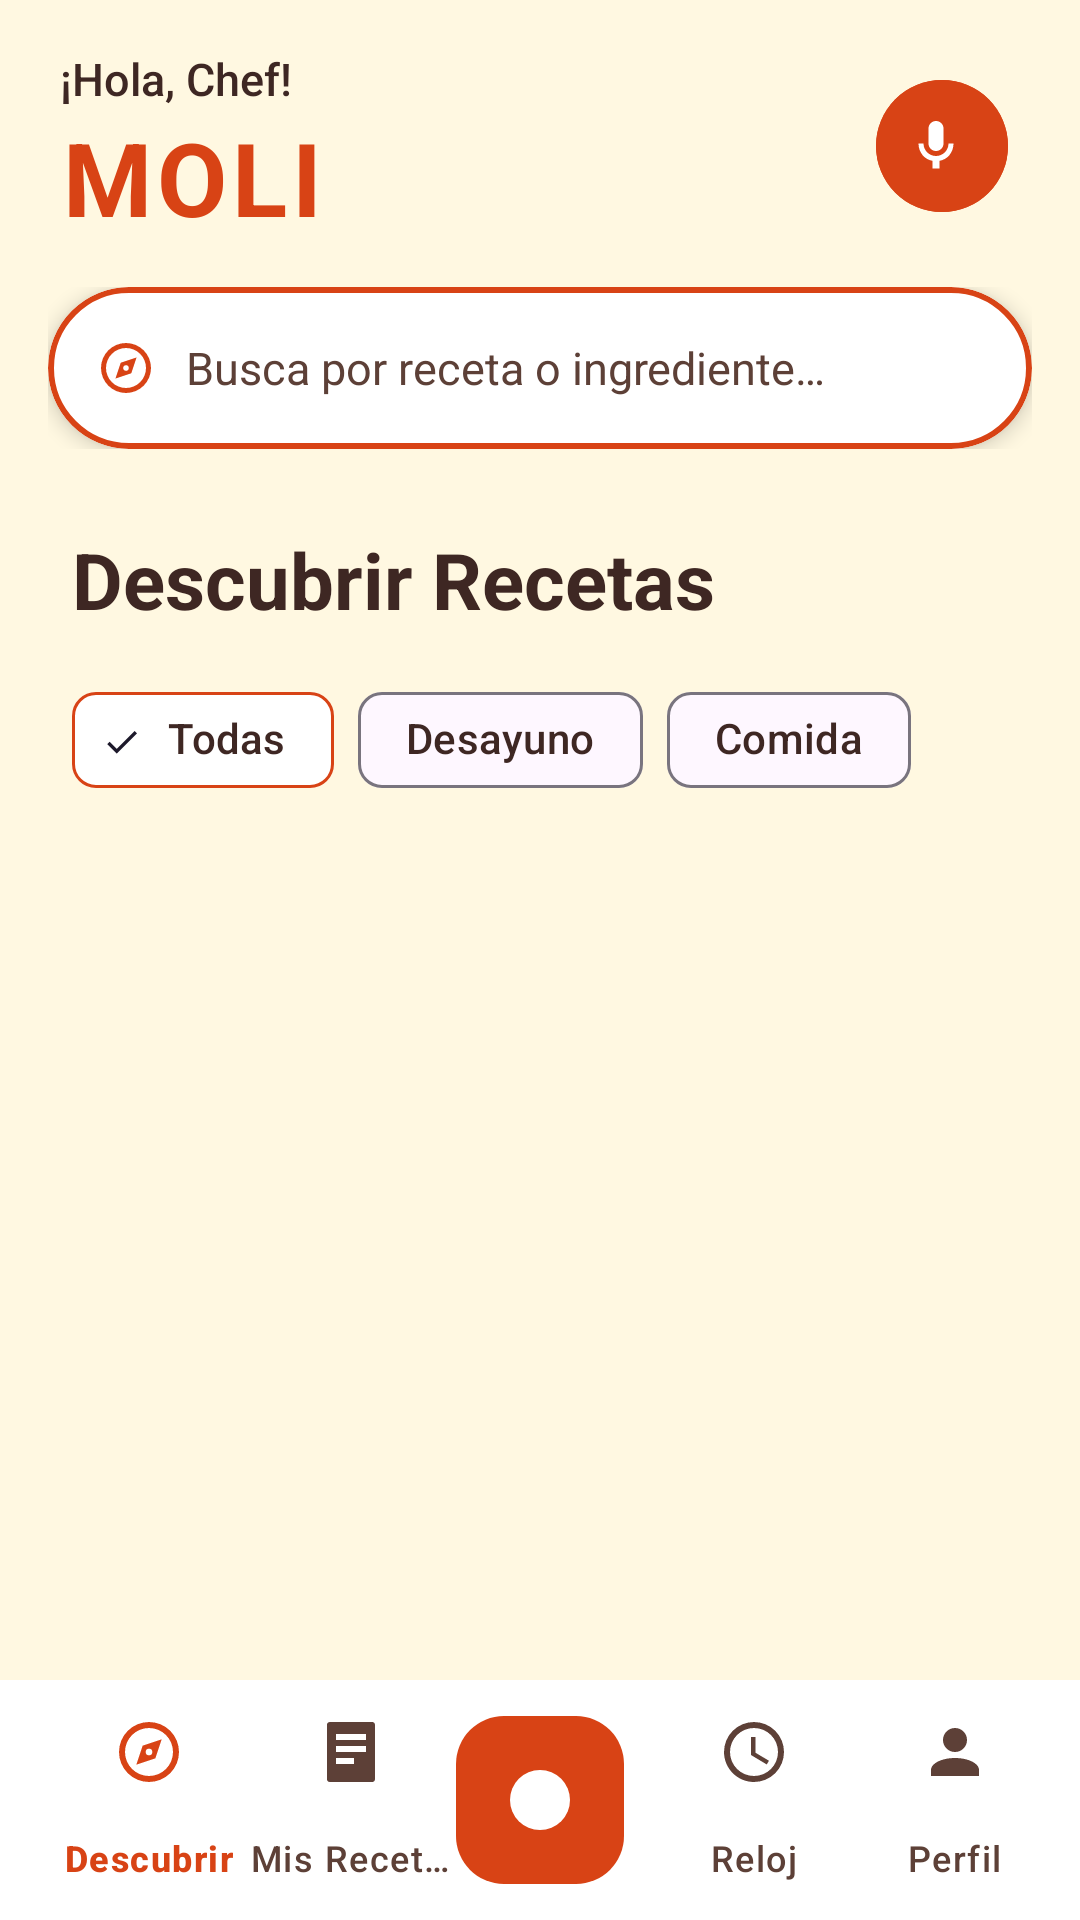

Named icons in this screenshot (1080×1920) and their bounding boxes, (x1, y1, x2, y2):
mex mic: (876, 80, 1008, 212)
